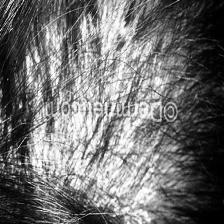Non-Cancerous Skin Condition: (25, 122, 166, 224), (20, 14, 164, 99)
